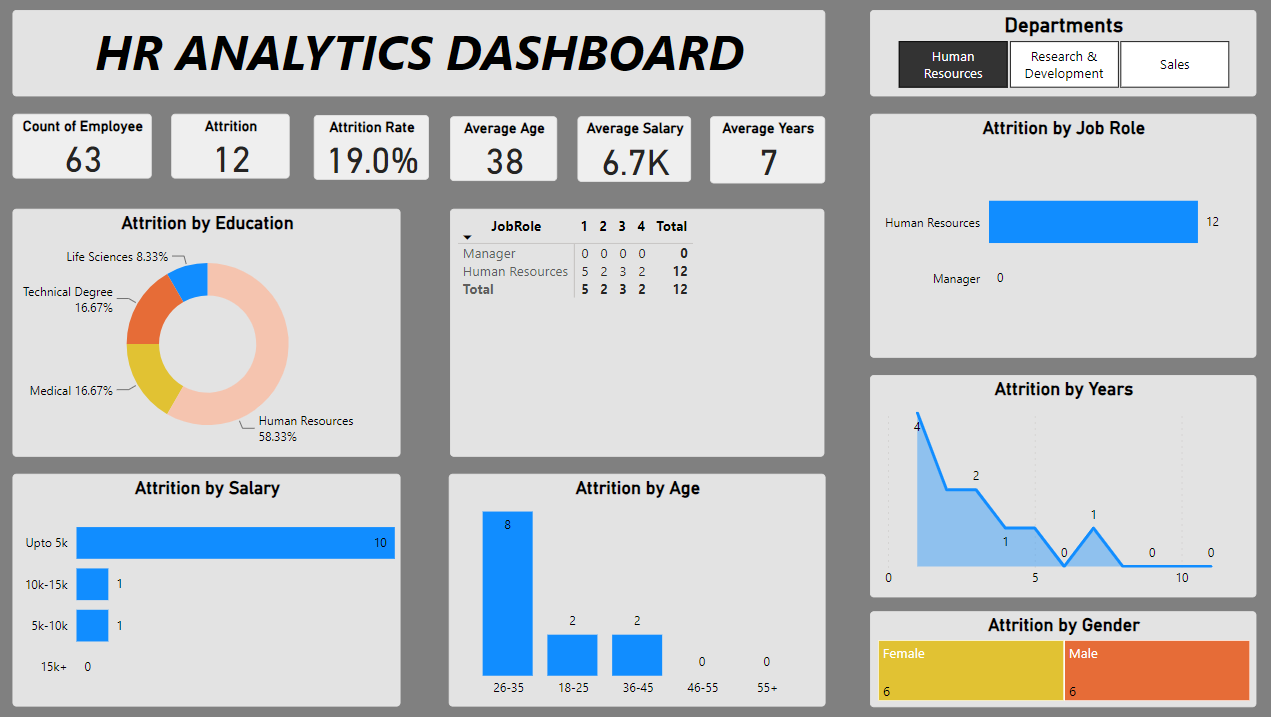

The page's visual inventory and layout, read from the dashboard file:
{"tool":"powerbi","page":{"name":"Page 1","canvas":[1280,720],"ordinal":0},"visuals":[{"type":"card","title":"Count of Employee","fields":{"Values":["CountNonNull(HR_Analytics.EmpID)"]},"box":[17,113.8,139.4,64.9],"z":0},{"type":"card","title":"Attrition","fields":{"Values":["Sum(HR_Analytics.AttritionCount)"]},"box":[176.6,113.8,118.1,64.9],"z":1000},{"type":"card","title":"Attrition Rate","fields":{"Values":["HR_Analytics.AttritionRate"]},"box":[319.1,114.9,114.9,64.9],"z":2000},{"type":"card","title":"Average Age ","fields":{"Values":["Avg(HR_Analytics.Age)"]},"box":[455.3,116,107.4,64.9],"z":3000},{"type":"card","title":"Average Salary","fields":{"Values":["Avg(HR_Analytics.MonthlyIncome)"]},"box":[583,116,113.8,66],"z":4000},{"type":"card","title":"Average Years ","fields":{"Values":["Avg(HR_Analytics.YearsAtCompany)"]},"box":[714.9,116,114.9,67],"z":5000},{"type":"donutChart","title":"Attrition by Education","fields":{"Category":["HR_Analytics.EducationField"],"Y":["Sum(HR_Analytics.AttritionCount)"]},"box":[17,208.5,388.3,247.9],"z":6000},{"type":"columnChart","title":"Attrition by Age","fields":{"Category":["HR_Analytics.AgeGroup"],"Y":["Sum(HR_Analytics.AttritionCount)"]},"box":[453.2,473.4,376.6,233],"z":7000},{"type":"pivotTable","fields":{"Rows":["HR_Analytics.JobRole"],"Columns":["HR_Analytics.JobSatisfaction"],"Values":["Sum(HR_Analytics.AttritionCount)"]},"box":[455.3,208.5,374.5,247.9],"z":8000},{"type":"barChart","title":"Attrition by Salary","fields":{"Category":["HR_Analytics.SalarySlab"],"Y":["Sum(HR_Analytics.AttritionCount)"]},"box":[17,473.4,388.3,233],"z":9000},{"type":"barChart","title":"Attrition by Job Role","fields":{"Category":["HR_Analytics.JobRole"],"Y":["Sum(HR_Analytics.AttritionCount)"]},"box":[875.5,113.8,386.2,243.6],"z":10000},{"type":"areaChart","title":"Attrition by Years","fields":{"Category":["HR_Analytics.YearsAtCompany"],"Y":["Sum(HR_Analytics.AttritionCount)"]},"box":[875,375,386.2,222.5],"z":11000},{"type":"treemap","title":"Attrition by Gender","fields":{"Group":["HR_Analytics.Gender"],"Values":["Sum(HR_Analytics.AttritionCount)"]},"box":[875.5,610.6,386.2,95.7],"z":12000},{"type":"slicer","title":"Departments","fields":{"Values":["HR_Analytics.Department"]},"box":[875.5,9.6,386.2,86.2],"z":13000},{"type":"textbox","box":[17,9.6,812.8,86.2],"z":14000}]}

Visuals, with their boxes in screenshot pixels (x1, y1, x2, y2), scaled from the page's 1280x720 canvas onto the 1271x717 screenshot:
"Count of Employee" card: 17 113 155 178
"Attrition" card: 175 113 293 178
"Attrition Rate" card: 317 114 431 179
"Average Age " card: 452 116 559 180
"Average Salary" card: 579 116 692 181
"Average Years " card: 710 116 824 182
"Attrition by Education" donutChart: 17 208 402 454
"Attrition by Age" columnChart: 450 471 824 703
pivotTable - HR_Analytics.JobRole x HR_Analytics.JobSatisfaction: 452 208 824 454
"Attrition by Salary" barChart: 17 471 402 703
"Attrition by Job Role" barChart: 869 113 1253 356
"Attrition by Years" areaChart: 869 373 1252 595
"Attrition by Gender" treemap: 869 608 1253 703
"Departments" slicer: 869 10 1253 95
textbox: 17 10 824 95
